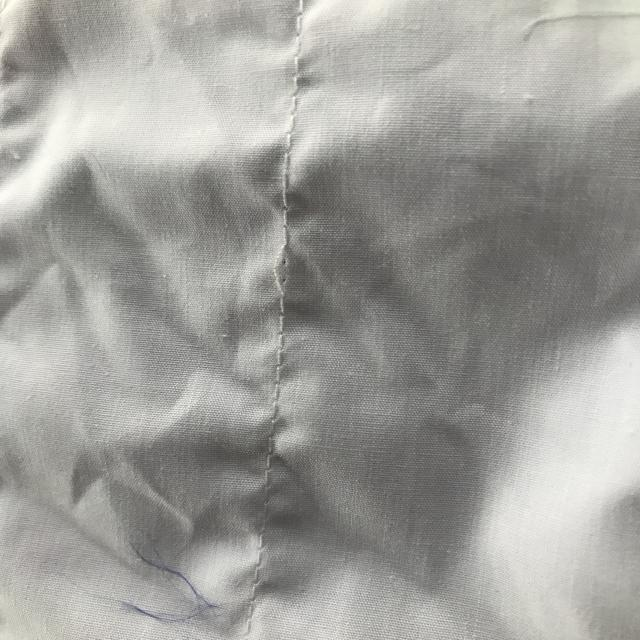good: (256, 347, 286, 451)
skip: (257, 231, 307, 302)
